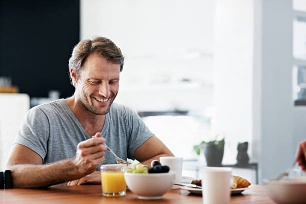male: (65, 36, 124, 121)
